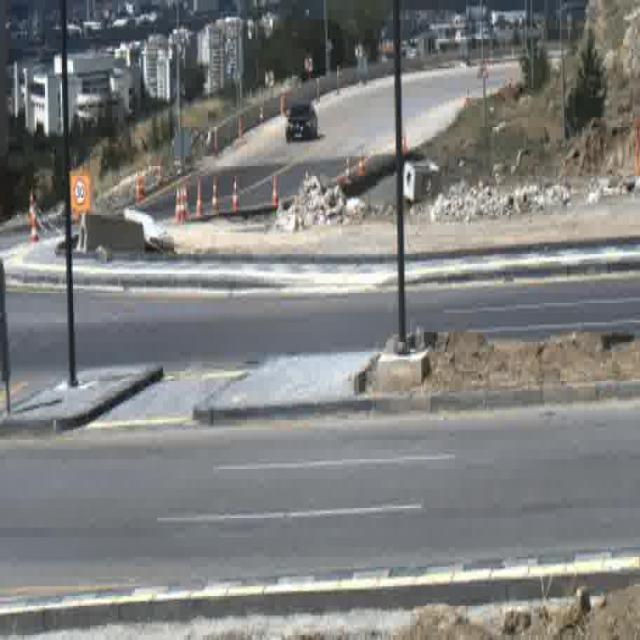Car: (286, 100, 320, 141)
